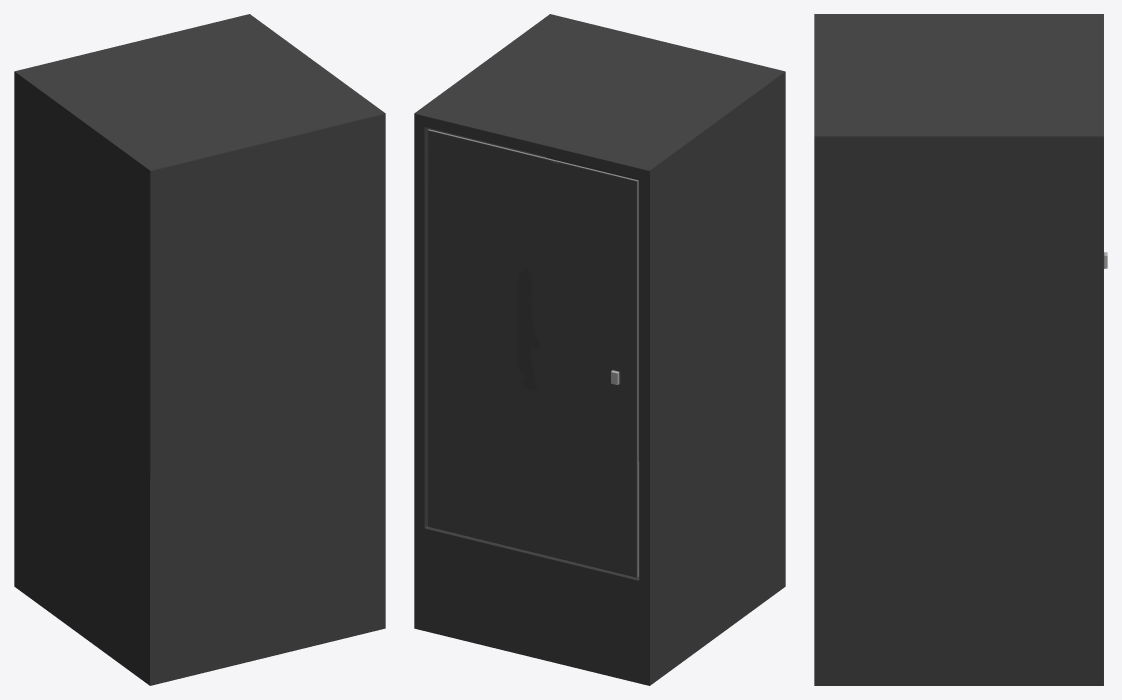
File: schrankZu.glb
The picture shows the model from 3 angles, left to right: view 1: azimuth 30°, elevation 25°; view 2: azimuth 150°, elevation 25°; view 3: azimuth 270°, elevation 25°; orthographic projection. The views are drawn at different scales.
Parts seen in each view (by area): view 1: 300604_23_06_15_12_53_47_1_300604_23_06_15_12_53_47_1.002; view 2: 300604_23_06_15_12_53_47_1_300604_23_06_15_12_53_47_1.002; view 3: 300604_23_06_15_12_53_47_1_300604_23_06_15_12_53_47_1.002.
Part boxes in pixels (bbox=[...]): 300604_23_06_15_12_53_47_1_300604_23_06_15_12_53_47_1.002: bbox=[14, 14, 385, 685]; 300604_23_06_15_12_53_47_1_300604_23_06_15_12_53_47_1.002: bbox=[414, 14, 785, 685]; 300604_23_06_15_12_53_47_1_300604_23_06_15_12_53_47_1.002: bbox=[814, 14, 1107, 685].
Bounding box in the file's own units: 1.39 × 2.91 × 1.41.
Materials: 1 (1 with a texture image).
